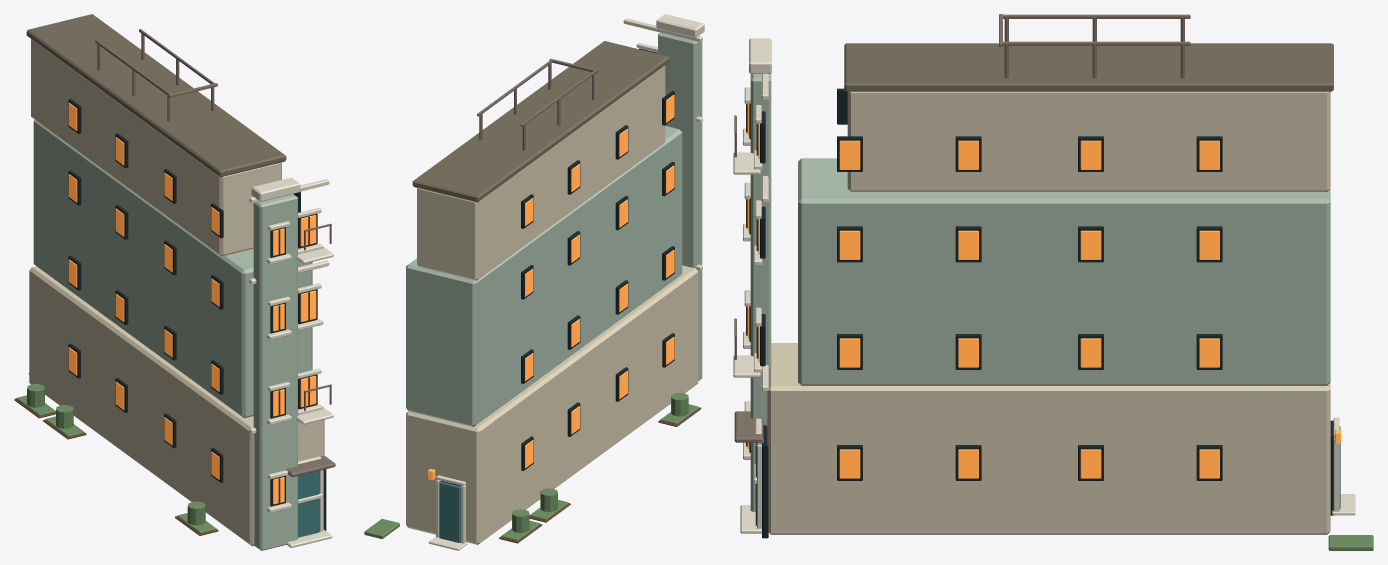
The model's file is eastside_garden_walkup_v1.627e644d51f0.glb.
3 views of the same model, side by side, from view 1: azimuth 30°, elevation 25°; view 2: azimuth 150°, elevation 25°; view 3: azimuth 270°, elevation 25° (orthographic). The views are drawn at different scales.
Visible parts, largest first — view 1: eastside_garden_walkup_v1Shell, DoorLeaf; view 2: eastside_garden_walkup_v1Shell, ServiceDoorLeaf, ServiceDoorFrame; view 3: eastside_garden_walkup_v1Shell.
Boxes of the visible parts, x1=… form: eastside_garden_walkup_v1Shell: x1=14, y1=14, x2=335, y2=550; DoorLeaf: x1=298, y1=470, x2=319, y2=537; eastside_garden_walkup_v1Shell: x1=364, y1=14, x2=704, y2=550; ServiceDoorLeaf: x1=439, y1=481, x2=460, y2=542; ServiceDoorFrame: x1=436, y1=475, x2=465, y2=543; eastside_garden_walkup_v1Shell: x1=733, y1=14, x2=1373, y2=550.
Bounding box in the file's own units: 4.79 × 14.02 × 16.74.
